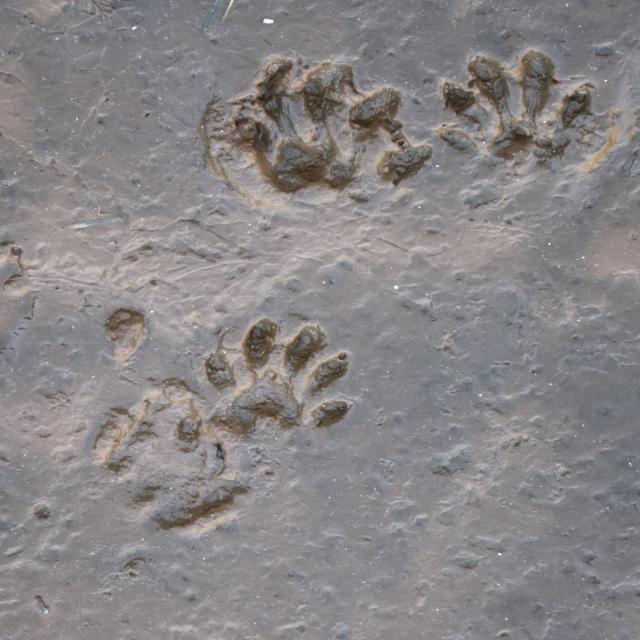mustelid: (237, 63, 428, 202), (444, 47, 590, 171), (207, 312, 350, 434)
